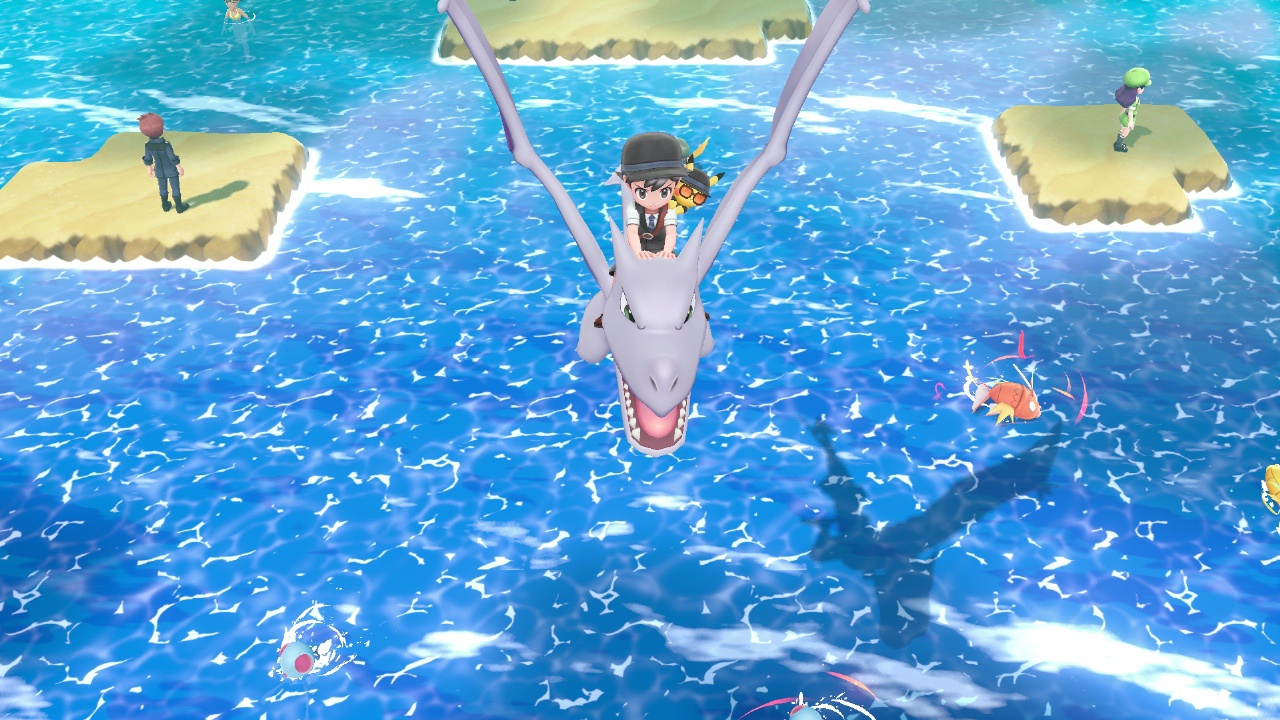Golden: (1261, 463, 1280, 512)
